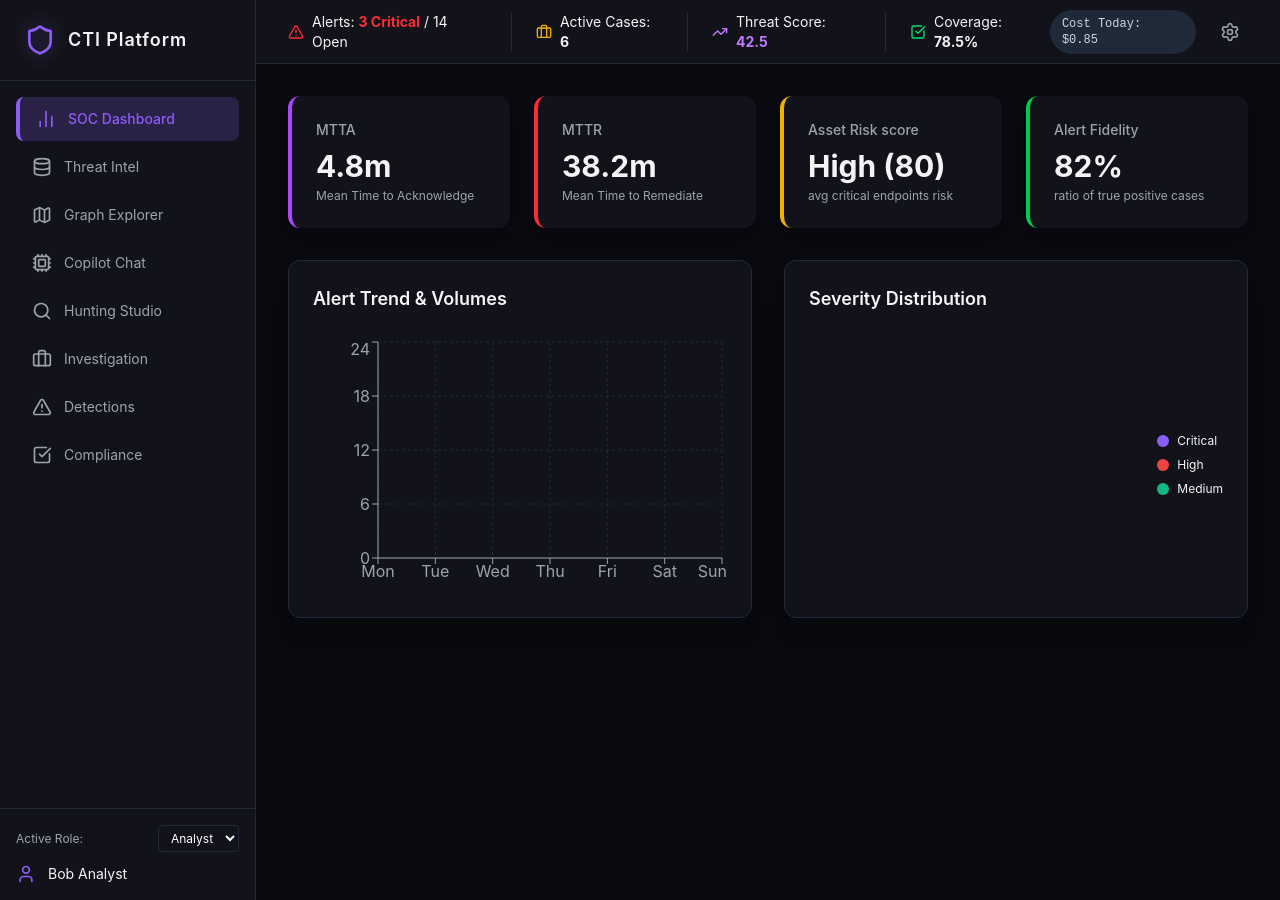
Test: SOC Dashboard Layout & Routing › translates natural language threat hunting query to SQL
Click the button "Hunting Studio" at coordinates (128, 311), box [16,289,239,333]
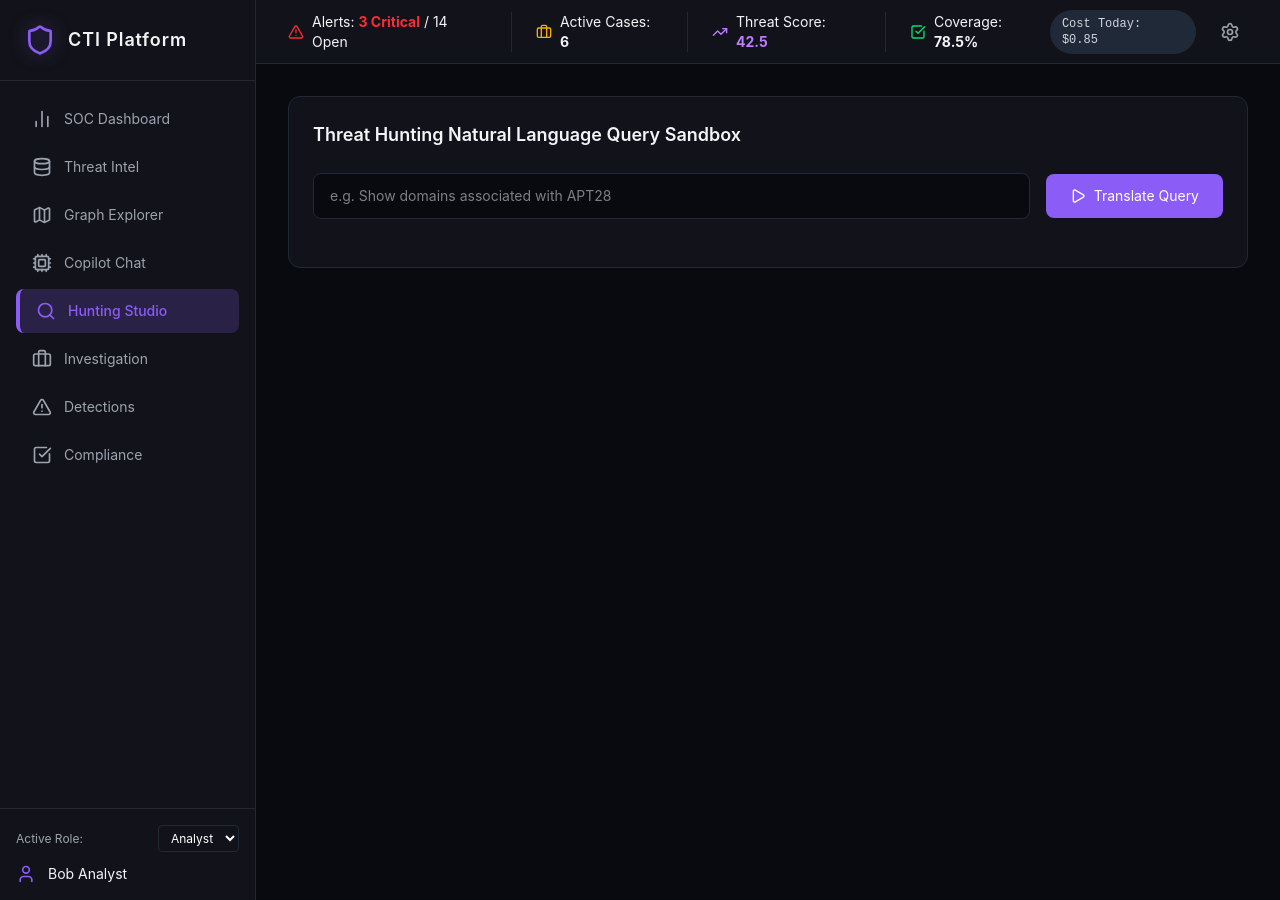
Type "Show phishing domains" into the field with placeholder "e.g. Show domains associated with APT28" at coordinates (671, 196), box [313,173,1030,219]
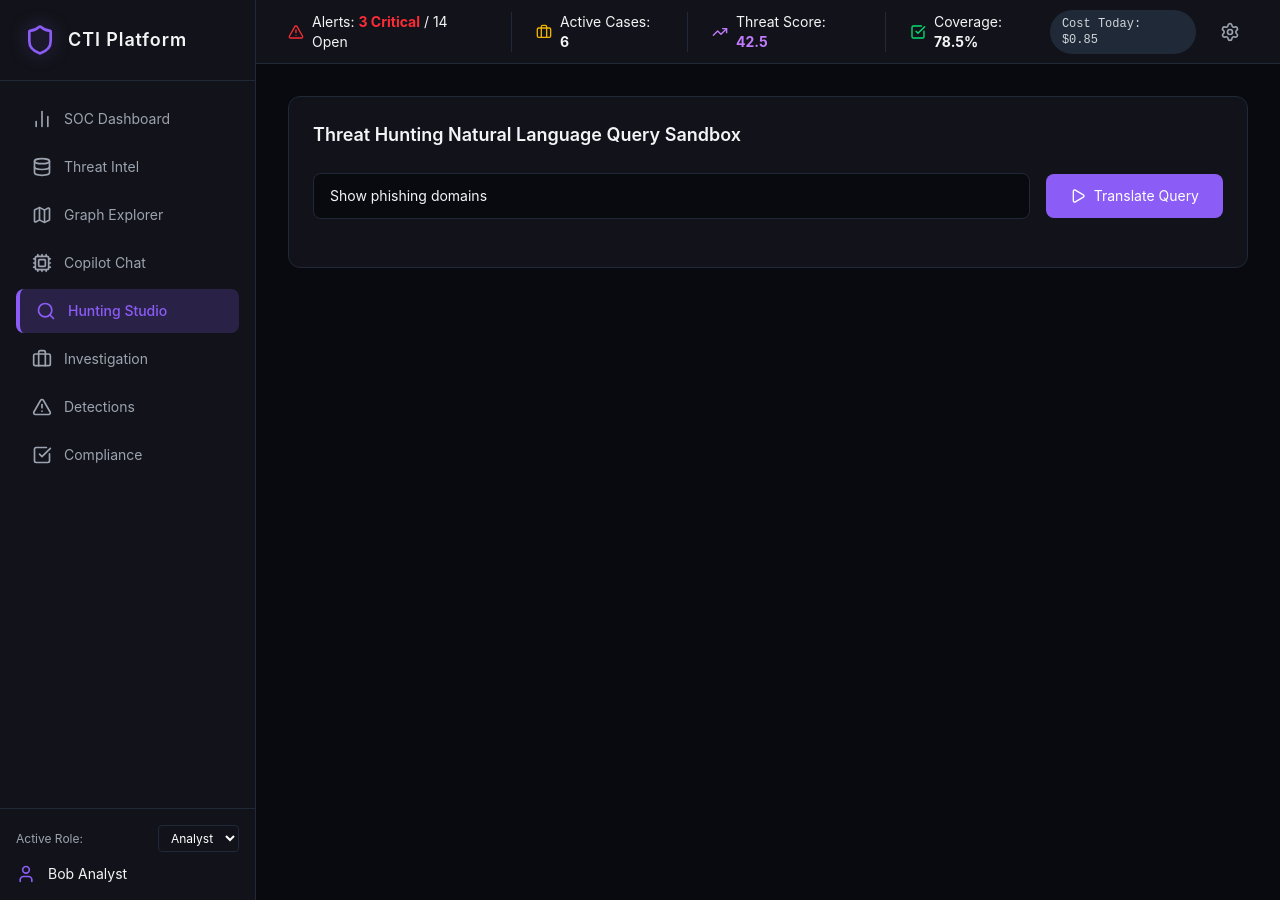
Click the button "Translate Query" at coordinates (1134, 196), box [1046,174,1223,218]
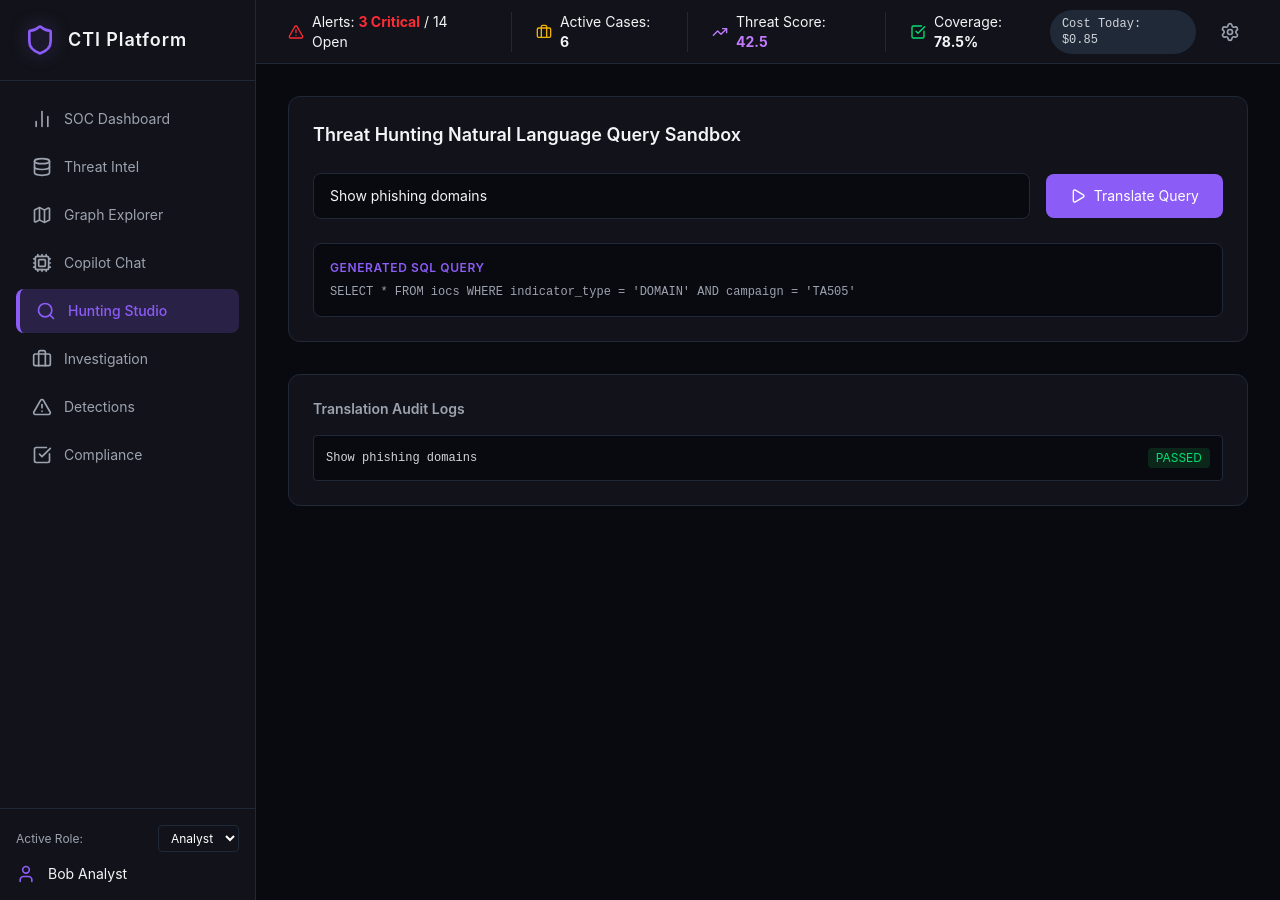
Check: the heading "GENERATED SQL QUERY" is shown, box [330,260,485,275]
